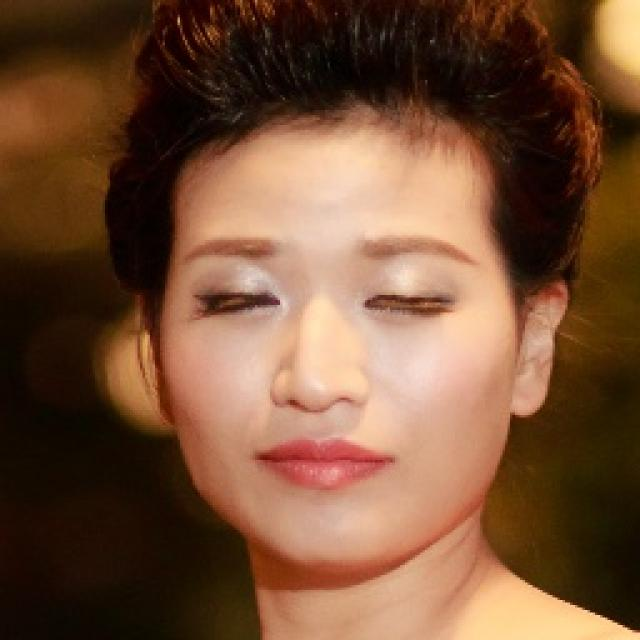earlobe: (510, 362, 547, 418)
eye: (191, 284, 278, 316), (367, 285, 450, 317)
nose: (267, 390, 371, 454)
wholeear: (510, 276, 569, 418)
